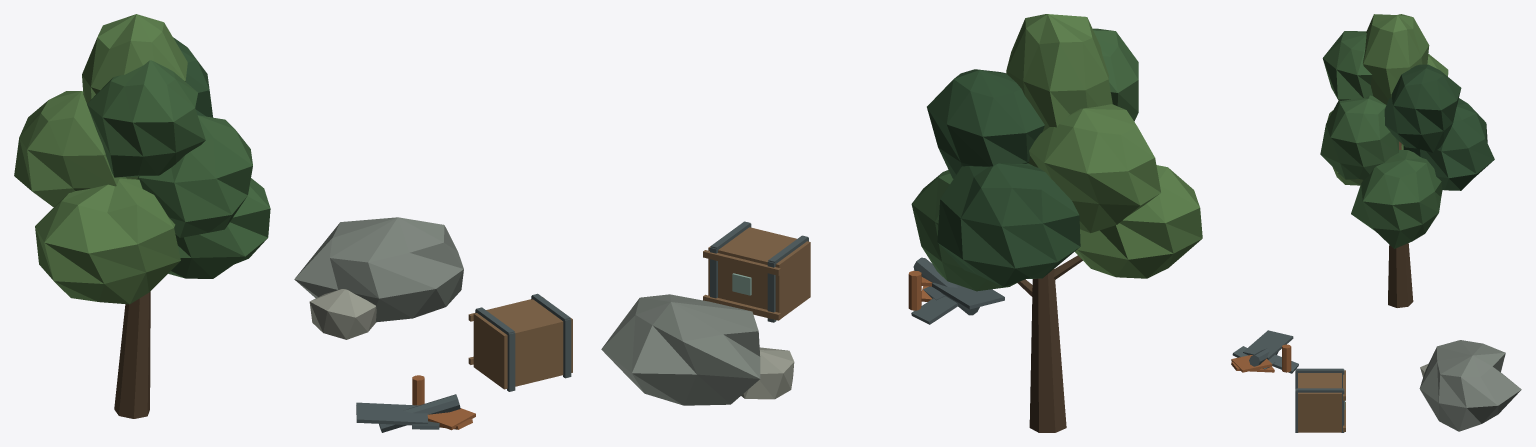
File: WorldArtLibrary.glb
The picture shows the model from 3 angles, left to right: view 1: azimuth 30°, elevation 25°; view 2: azimuth 150°, elevation 25°; view 3: azimuth 270°, elevation 25°; orthographic projection. The views are drawn at different scales.
Visible parts, largest first — view 1: CoastalPine_leavesLight, CoastalPine_leaves, CoastalRock_rock, SupplyCrate_wood, CoastalPine_bark, CoastalRock_rockLight, ScrapPile_metal, SupplyCrate_metal, CoastalPine_leavesDark, ScrapPile_paint; view 2: CoastalPine_leavesLight, CoastalPine_leavesDark, CoastalRock_rock, SupplyCrate_wood, CoastalPine_leaves, CoastalPine_bark, ScrapPile_metal, CoastalRock_rockLight, SupplyCrate_metal, ScrapPile_paint; view 3: CoastalPine_leaves, CoastalPine_leavesDark, CoastalRock_rock, CoastalPine_leavesLight, SupplyCrate_wood, CoastalPine_bark, ScrapPile_metal, SupplyCrate_metal, ScrapPile_paint.
Boxes of the visible parts, <box> form: CoastalPine_leavesLight: <box>14,14,187,304</box>; CoastalPine_leaves: <box>87,60,270,278</box>; CoastalRock_rock: <box>294,217,463,322</box>; SupplyCrate_wood: <box>468,297,572,389</box>; CoastalPine_bark: <box>114,291,150,418</box>; CoastalRock_rockLight: <box>309,289,376,339</box>; ScrapPile_metal: <box>356,394,460,432</box>; SupplyCrate_metal: <box>475,293,571,391</box>; CoastalPine_leavesDark: <box>173,37,212,117</box>; ScrapPile_paint: <box>412,375,475,430</box>; CoastalPine_leavesLight: <box>1006,14,1202,278</box>; CoastalPine_leavesDark: <box>927,69,1080,286</box>; CoastalRock_rock: <box>601,294,760,405</box>; SupplyCrate_wood: <box>703,227,810,320</box>; CoastalPine_leaves: <box>911,28,1138,291</box>; CoastalPine_bark: <box>1017,255,1082,432</box>; ScrapPile_metal: <box>911,257,1004,324</box>; CoastalRock_rockLight: <box>741,347,794,399</box>; SupplyCrate_metal: <box>710,221,808,322</box>; ScrapPile_paint: <box>908,270,932,310</box>; CoastalPine_leaves: <box>1320,31,1442,248</box>; CoastalPine_leavesDark: <box>1384,64,1494,190</box>; CoastalRock_rock: <box>1419,340,1521,431</box>; CoastalPine_leavesLight: <box>1327,14,1448,185</box>; SupplyCrate_wood: <box>1298,370,1345,432</box>; CoastalPine_bark: <box>1388,143,1413,307</box>; ScrapPile_metal: <box>1232,330,1298,373</box>; SupplyCrate_metal: <box>1295,368,1344,432</box>; ScrapPile_paint: <box>1231,344,1291,372</box>.
Size of the model in its own units: 30.66 by 24.4 by 21.79.
12 materials, 12 textured.
